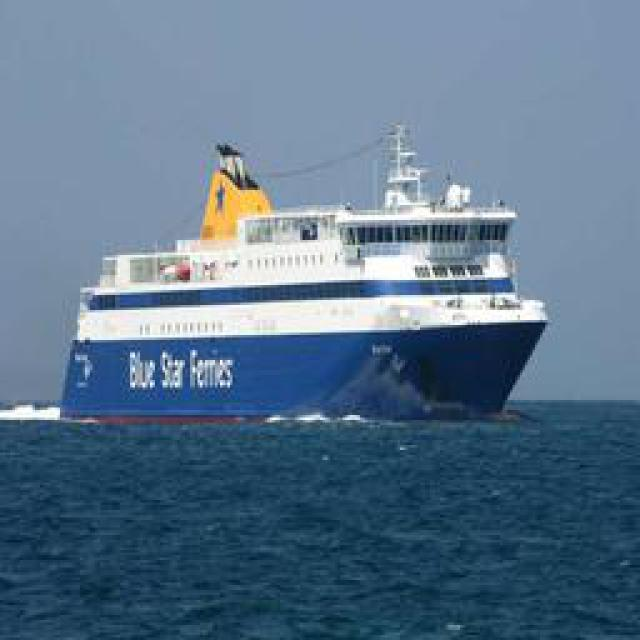Ship: (55, 133, 544, 421)
